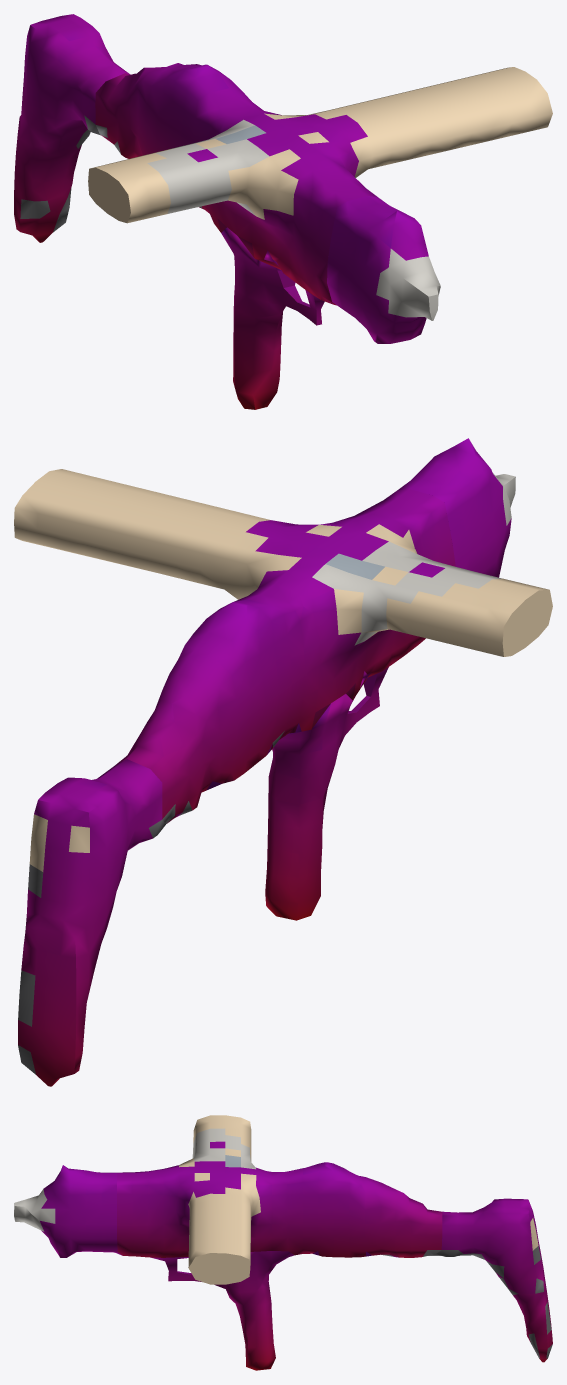
The model's file is wpn_eclair.glb.
3 views of the same model, one above another, from view 1: azimuth 30°, elevation 25°; view 2: azimuth 150°, elevation 25°; view 3: azimuth 270°, elevation 25° (orthographic). The views are drawn at different scales.
Visible parts, largest first — view 1: chargeur_superieur, wpn_eclair; view 2: chargeur_superieur, wpn_eclair; view 3: chargeur_superieur, wpn_eclair.
Part boxes in pixels (left/top/right/bottom): chargeur_superieur: left=88, top=63, right=552, bottom=305; wpn_eclair: left=14, top=14, right=440, bottom=409; chargeur_superieur: left=14, top=469, right=552, bottom=823; wpn_eclair: left=18, top=438, right=515, bottom=1086; chargeur_superieur: left=117, top=1115, right=442, bottom=1284; wpn_eclair: left=14, top=1165, right=552, bottom=1370.
Size of the model in its own units: 0.3229 by 0.2226 by 0.5352.
